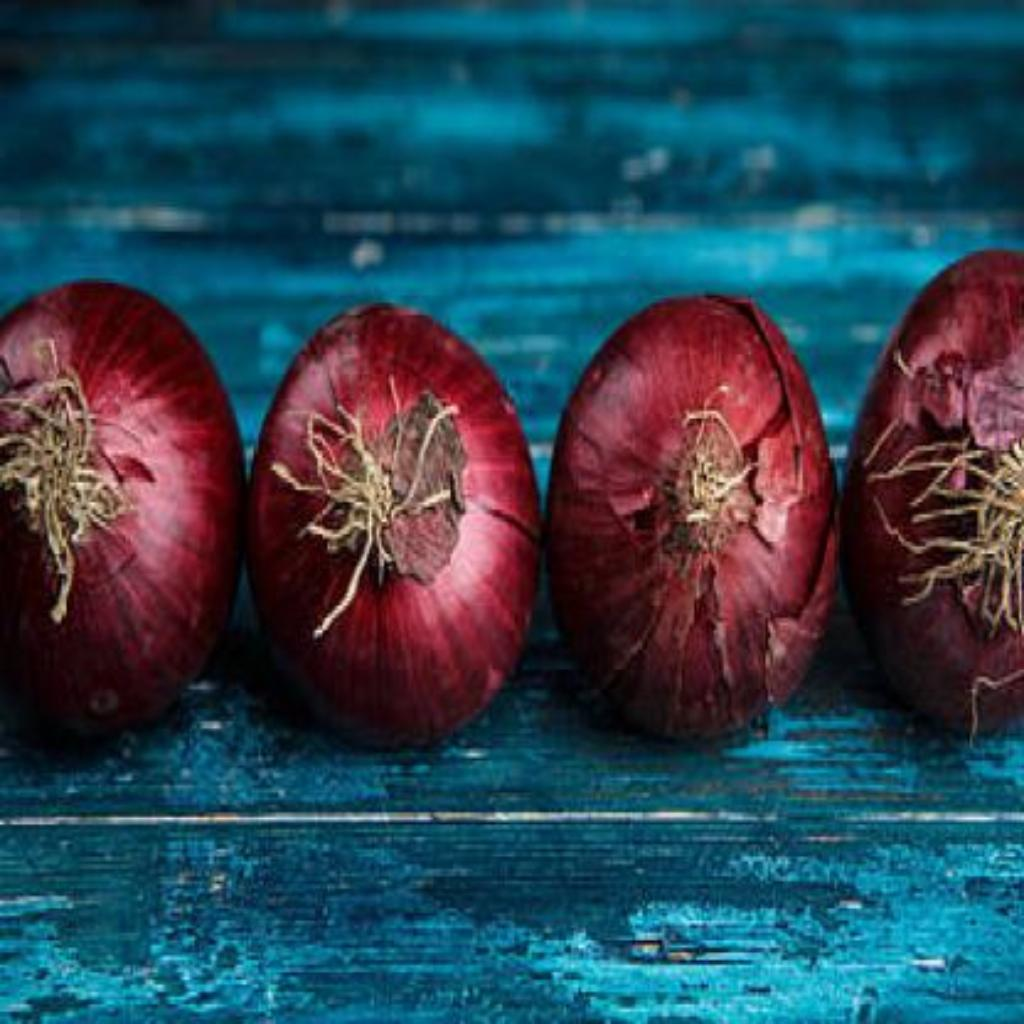Onion: (249, 305, 542, 747), (549, 295, 839, 738), (0, 283, 244, 736), (847, 251, 1024, 735)
